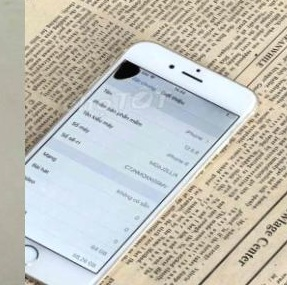screen_defect: (112, 55, 163, 87)
